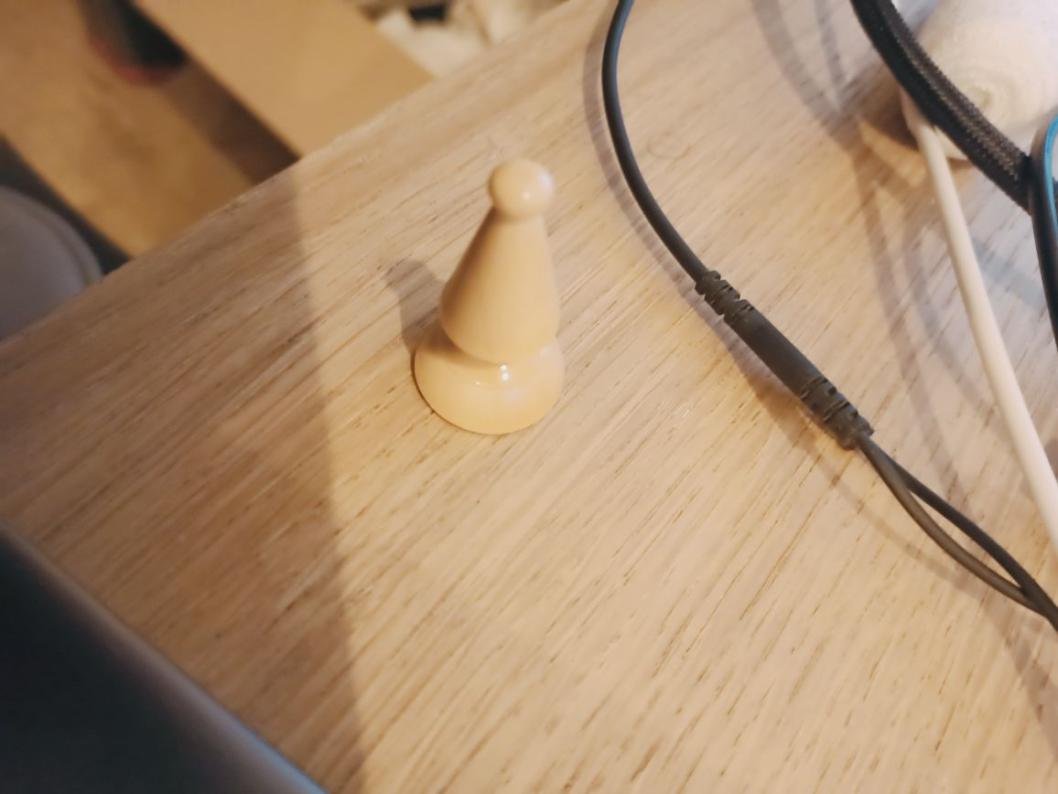wbishop: (412, 155, 569, 438)
